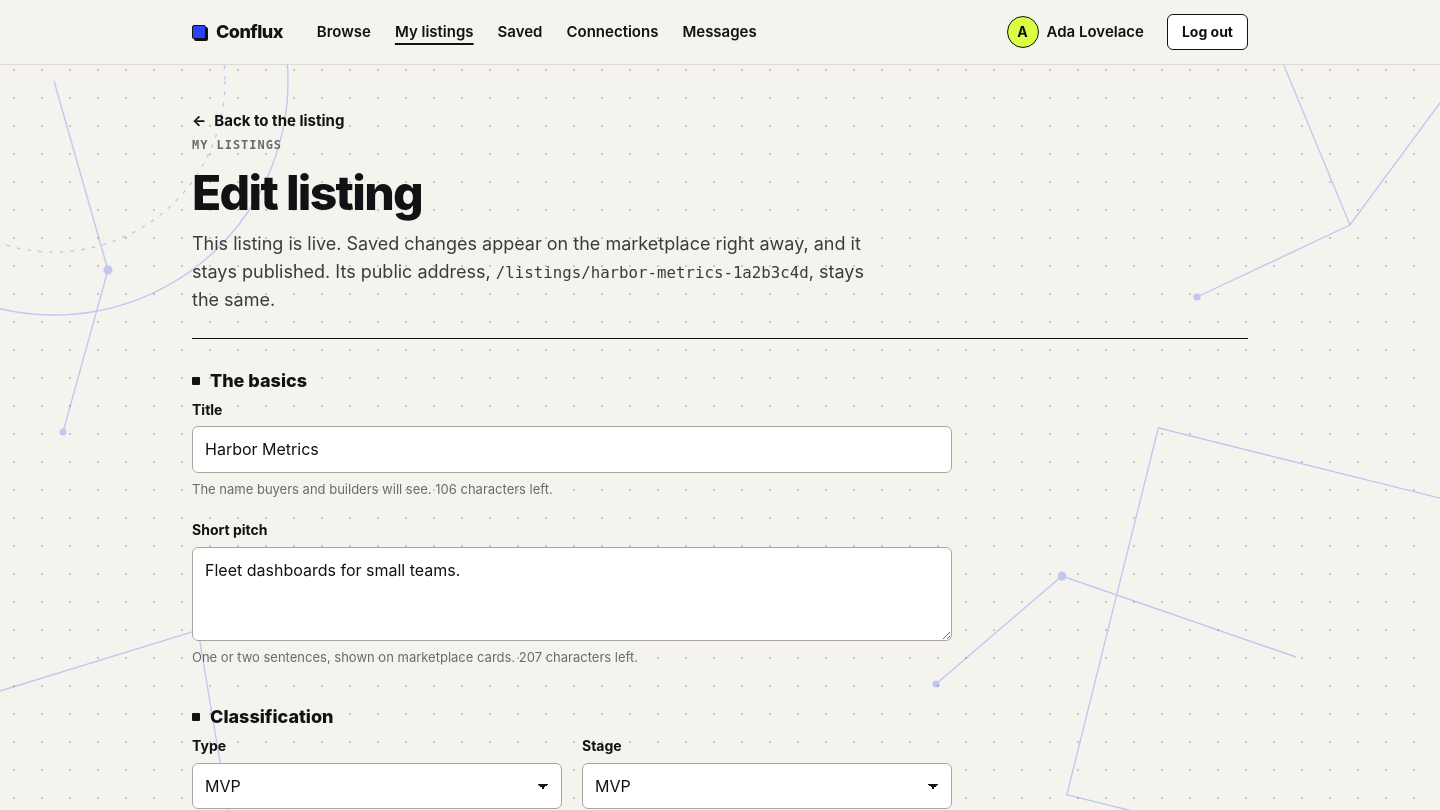
Test: Edit listing › saves a published listing and it stays PUBLISHED with its original publishedAt
The width and height of the screenshot is (1440, 810).
Expected: the text "This listing is live" is shown, [192,233,861,282]
Replace the text in the text box labelled "Short pitch" with "Sharper pitch." at [572, 594], box [192,547,952,641]
(page scrolled)
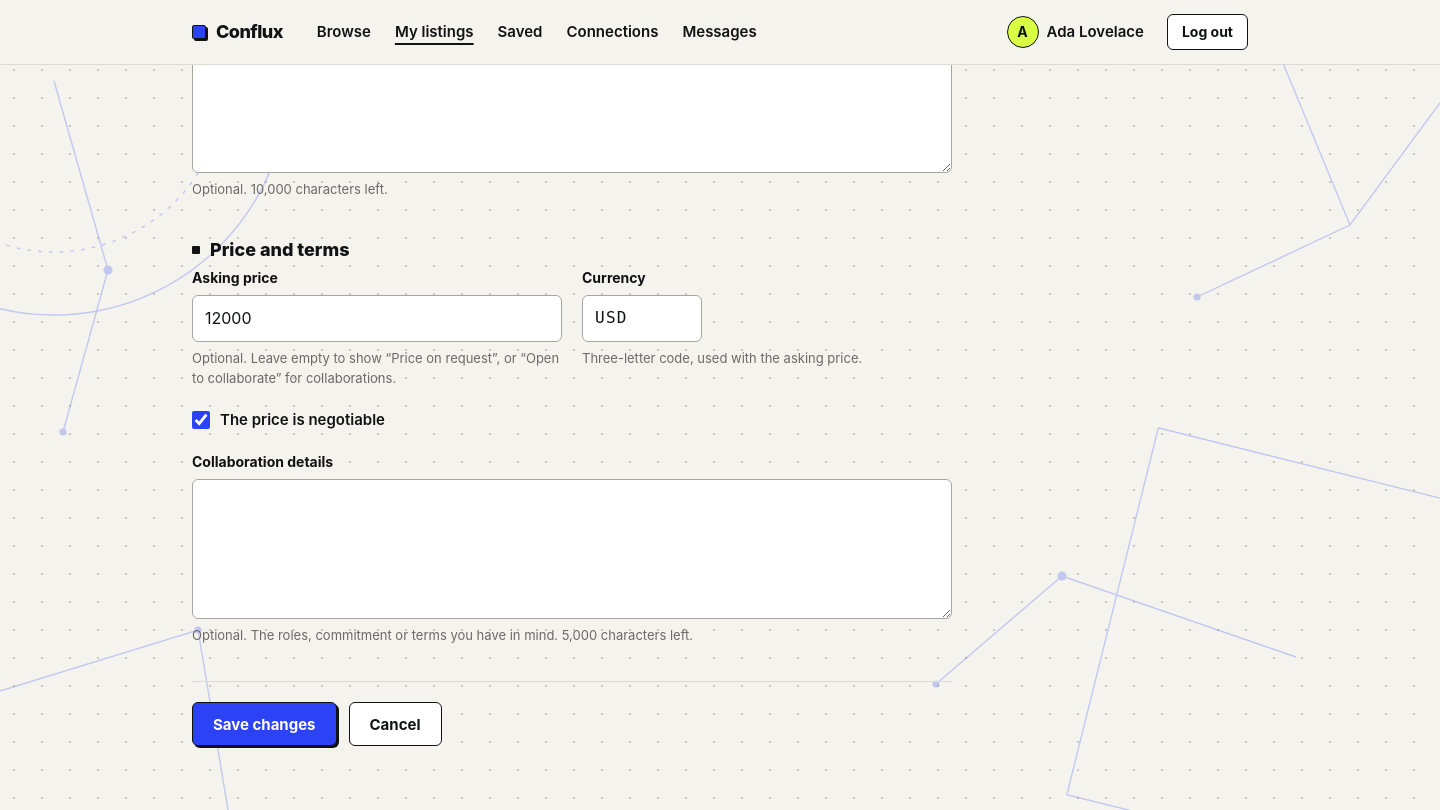
Click the button "Save changes" at [264, 724], box [192,702,336,746]
(page scrolled)
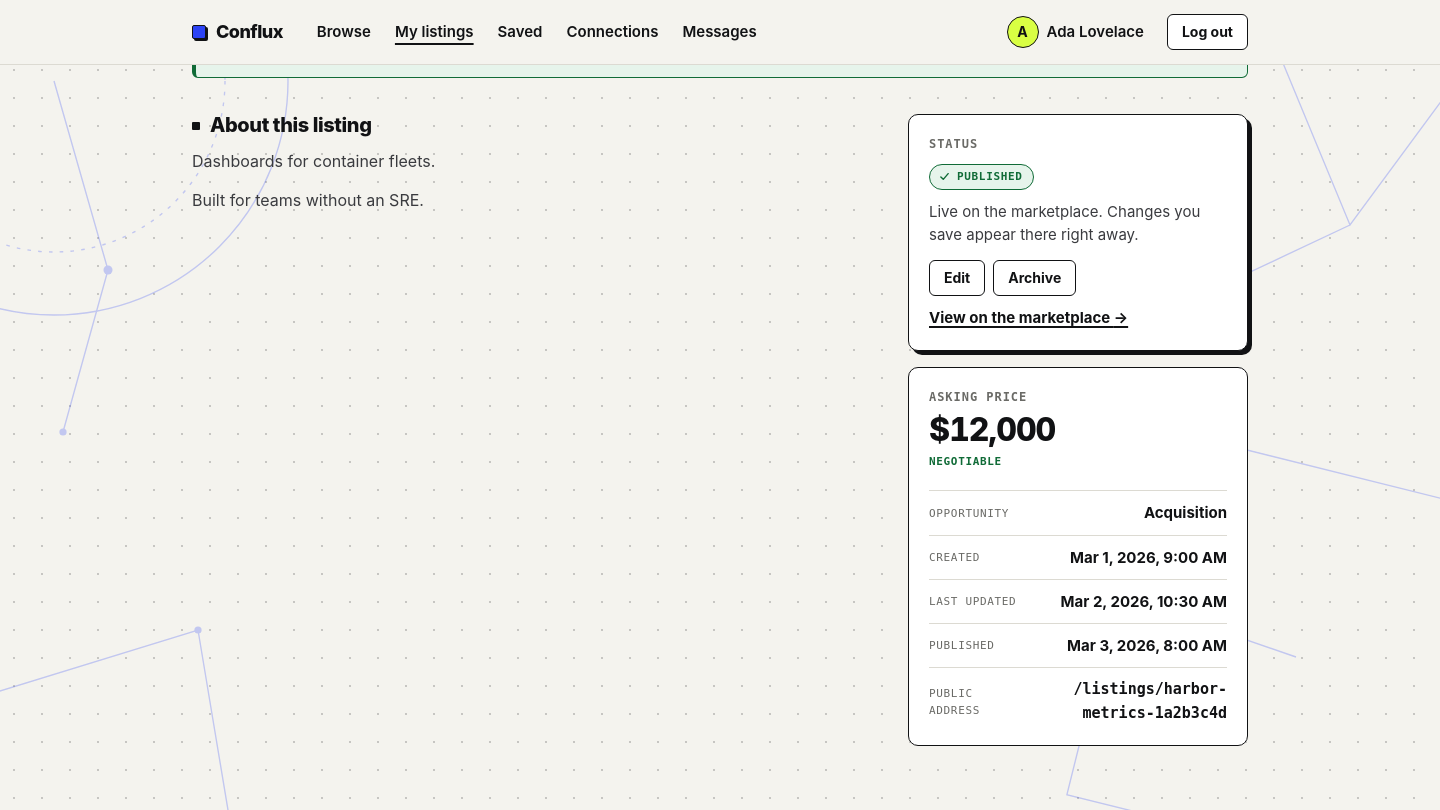
Expected: the text "Changes saved." shows "live on the marketplace", [334,44,560,63]
Expected: the text "Published" is shown, [929,164,1034,190]
Expected: the text "Mar 3, 2026, 8:00 AM" is shown, [1067,636,1227,655]
